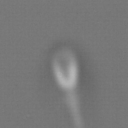normal: (58, 90, 89, 128)
